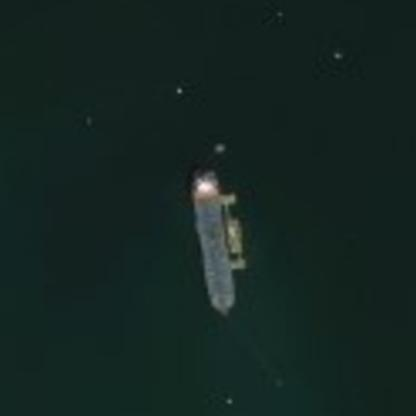ship: (179, 161, 262, 318)
